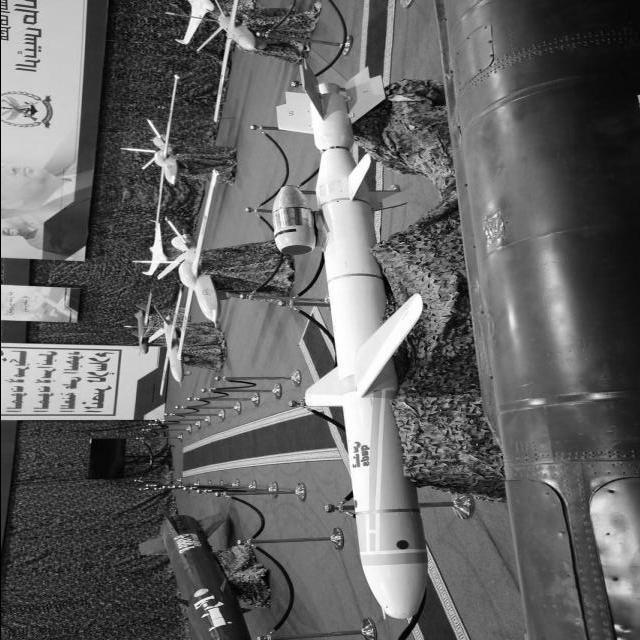missile: (291, 71, 439, 640)
